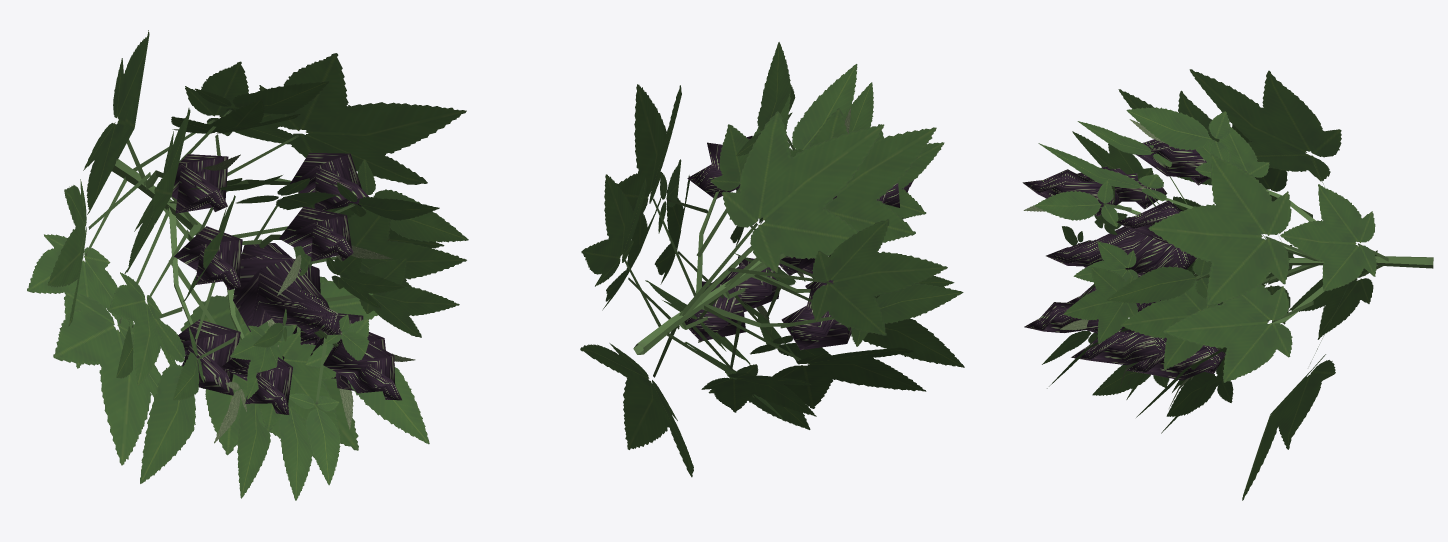
File: p_dark_afghan_flowering_c0_cards.obj
3 views of the same model, side by side, from view 1: azimuth 30°, elevation 25°; view 2: azimuth 150°, elevation 25°; view 3: azimuth 270°, elevation 25° (orthographic). The views are drawn at different scales.
Size of the model in its own units: 1.21 by 1.39 by 1.17.
1 material, 1 textured.
